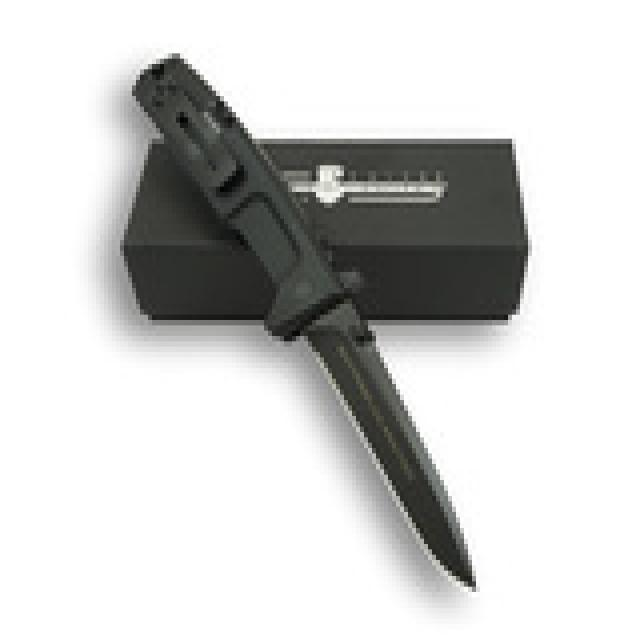Knife: (124, 57, 480, 596)
